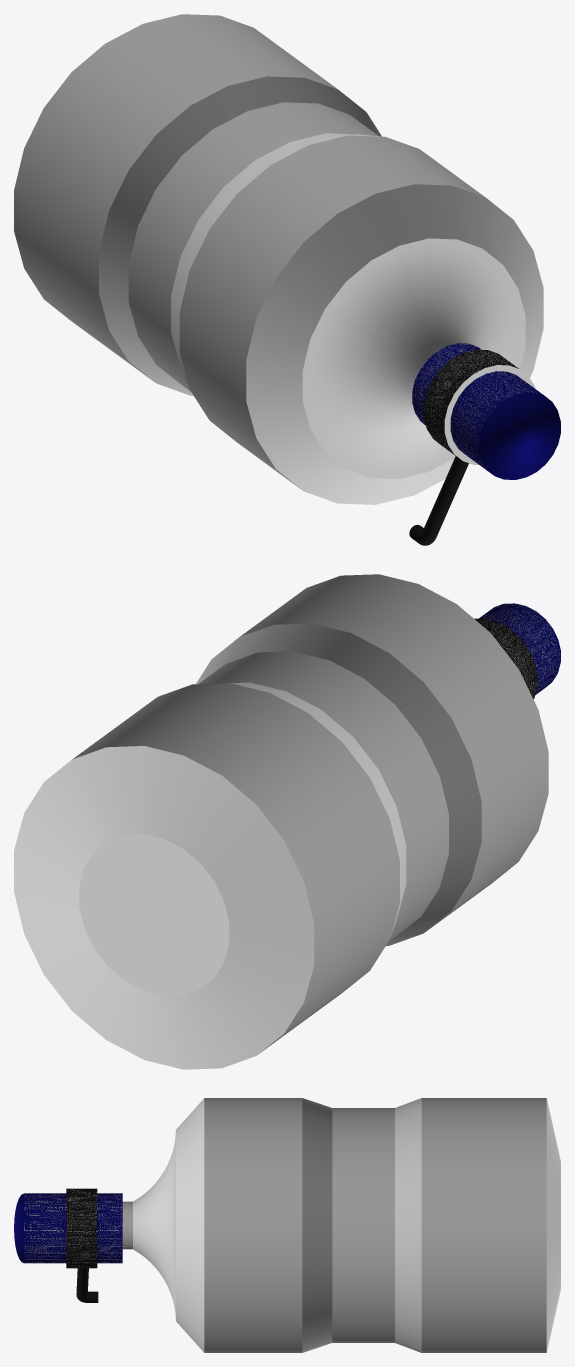
File: model_scale.obj
3 renders of one model, top to bottom at view 1: azimuth 30°, elevation 25°; view 2: azimuth 150°, elevation 25°; view 3: azimuth 270°, elevation 25°, orthographic. The views are drawn at different scales.
Parts seen in each view (by area): view 1: mesh16_mesh16-geometry, mesh5_mesh5-geometry, mesh4_mesh4-geometry, mesh1_mesh1-geometry; view 2: mesh16_mesh16-geometry, mesh5_mesh5-geometry; view 3: mesh16_mesh16-geometry, mesh5_mesh5-geometry, mesh4_mesh4-geometry, mesh1_mesh1-geometry.
Boxes of the visible parts, x1,y1,x2,y2 form: mesh16_mesh16-geometry: (14, 14, 543, 504); mesh5_mesh5-geometry: (412, 343, 543, 474); mesh4_mesh4-geometry: (479, 392, 560, 479); mesh1_mesh1-geometry: (409, 456, 468, 545); mesh16_mesh16-geometry: (14, 574, 548, 1069); mesh5_mesh5-geometry: (474, 603, 560, 699); mesh16_mesh16-geometry: (122, 1098, 560, 1352); mesh5_mesh5-geometry: (24, 1188, 122, 1268); mesh4_mesh4-geometry: (14, 1193, 23, 1262); mesh1_mesh1-geometry: (76, 1268, 98, 1302).
Size of the model in its own units: 0.0773 by 0.0773 by 0.1671.
